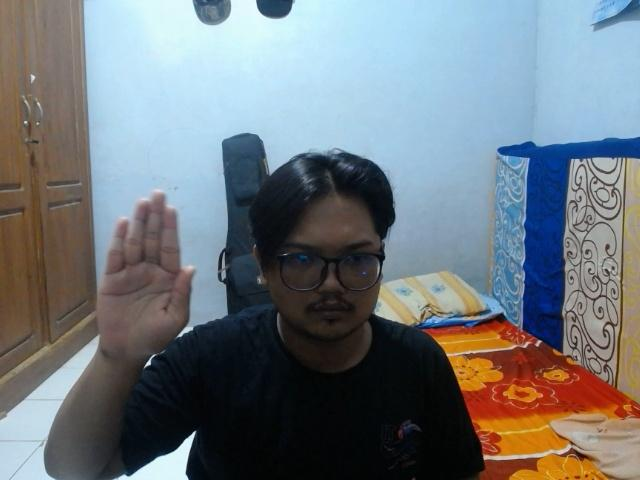Release: (94, 188, 196, 361)
